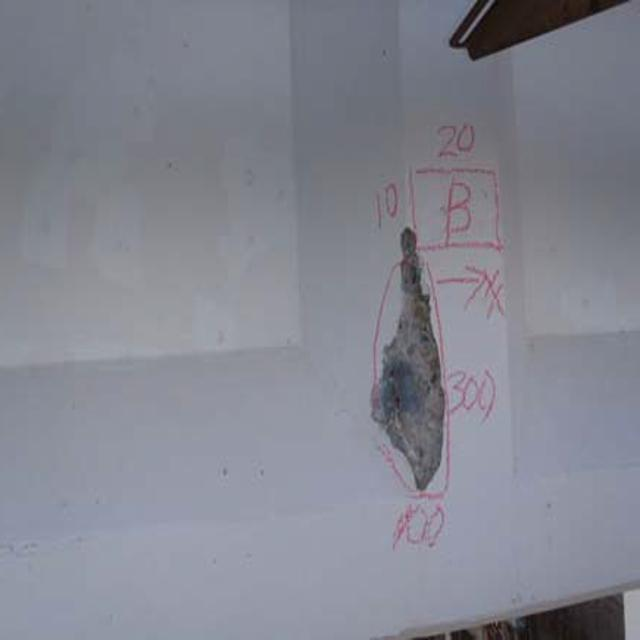spalling: (377, 225, 456, 496)
